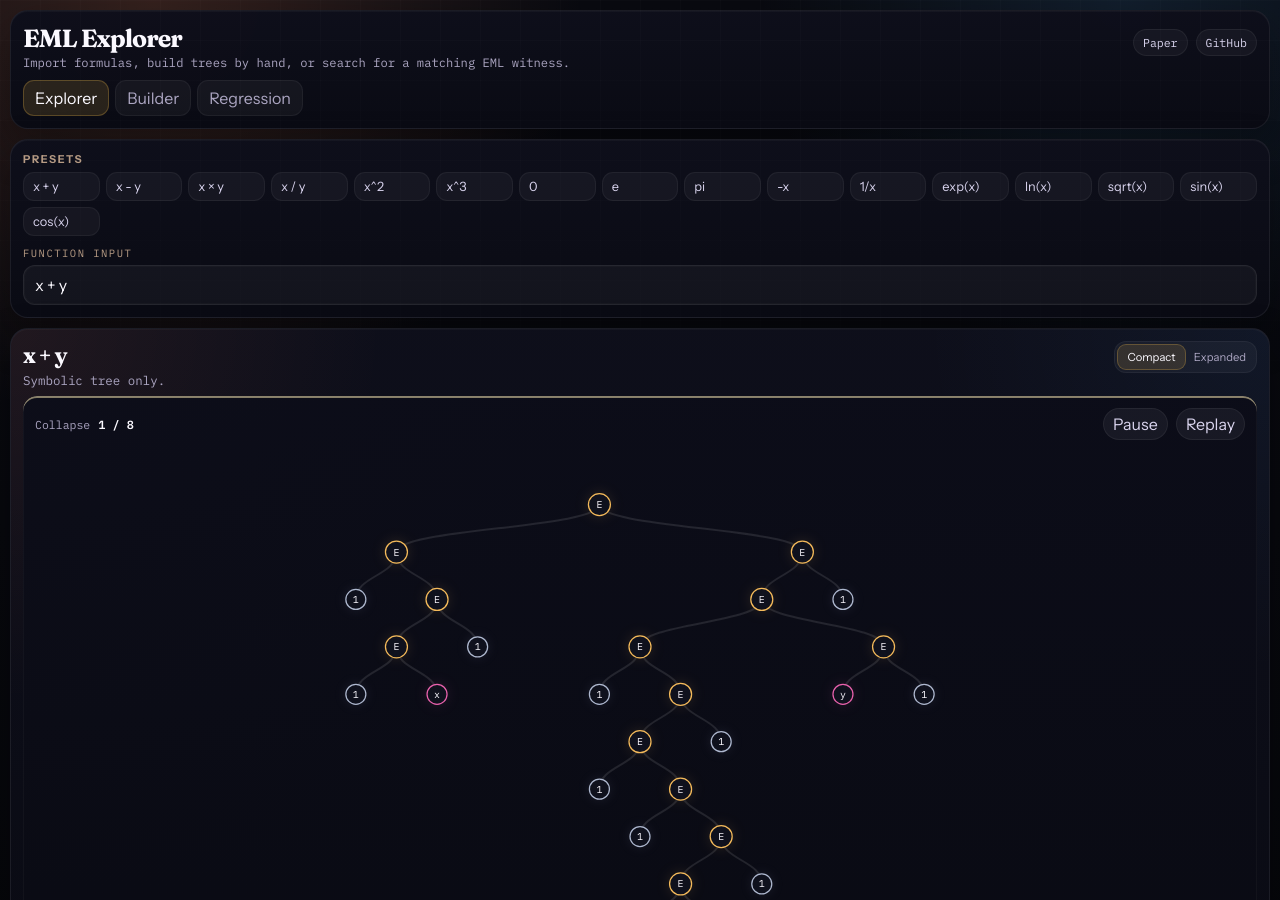
App › supports quick inserts from the builder tree toolbar
The image size is (1280, 900).
Click the button with test id "tab-builder" at (153, 98), box [115,80,191,116]
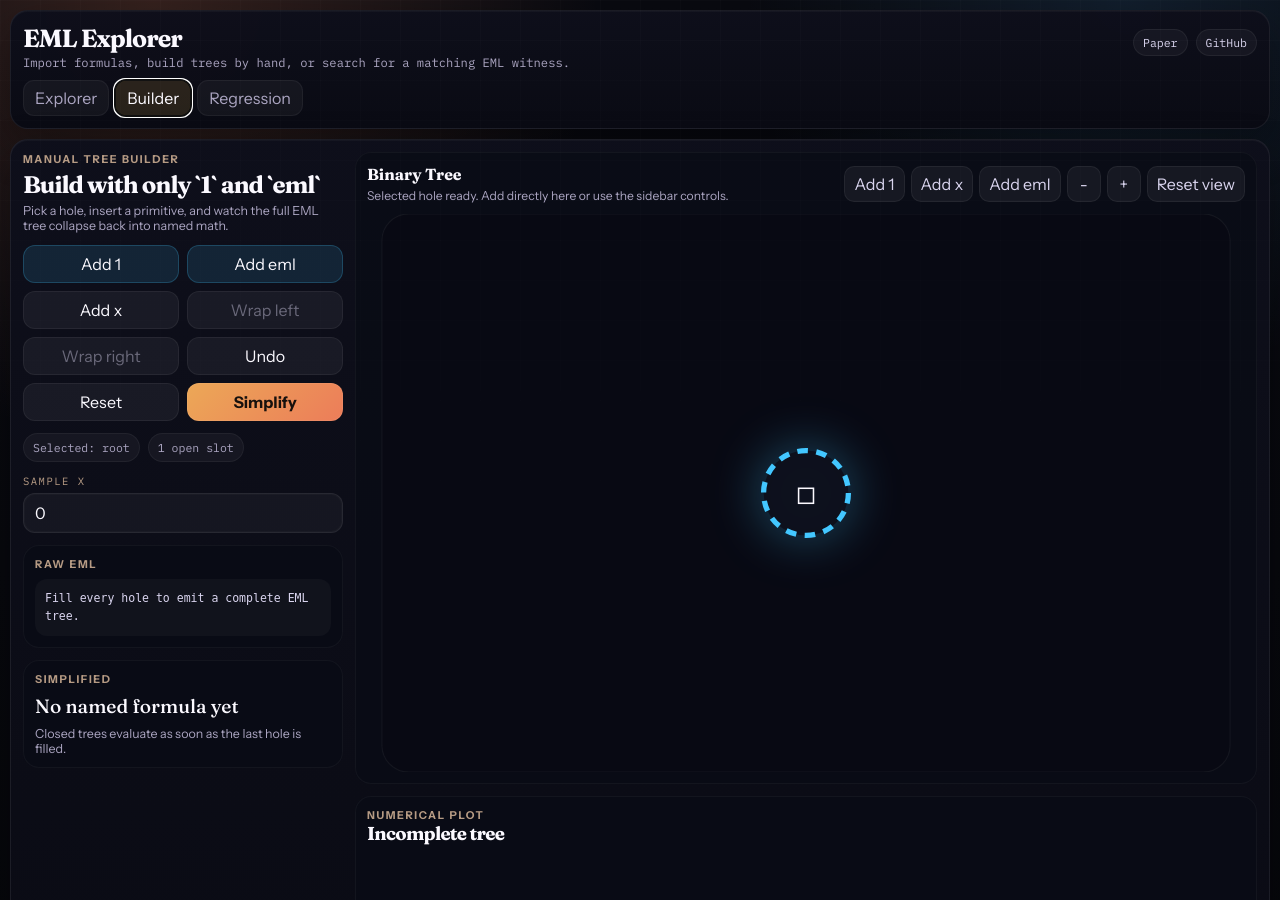
Click the button with test id "tree-quick-add-eml" at (1020, 184), box [979,166,1061,202]
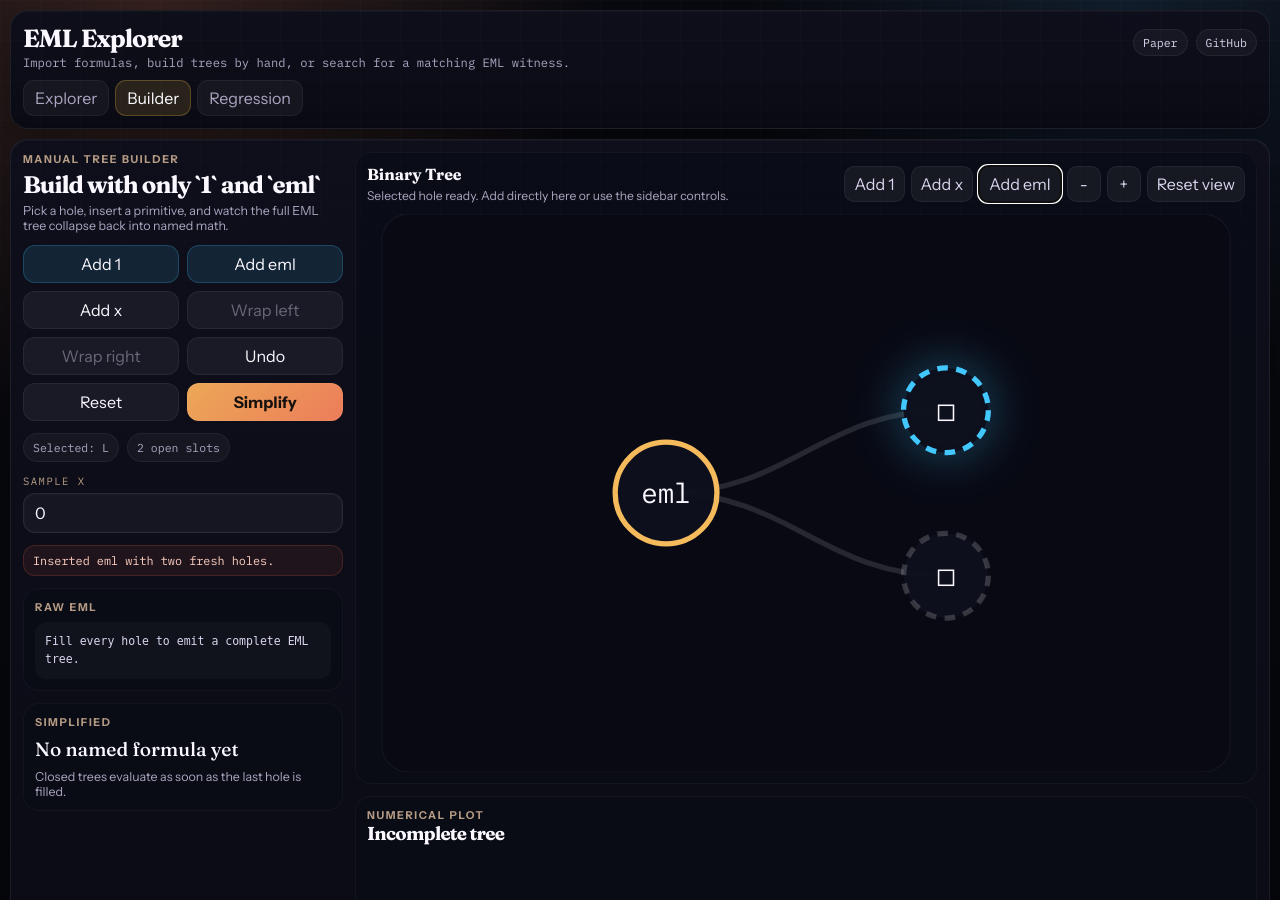
Expected: the text "Inserted eml with two fresh holes." is shown, [23,545,343,576]
Expected: the text "Selected: L" is shown, [23,433,119,462]
